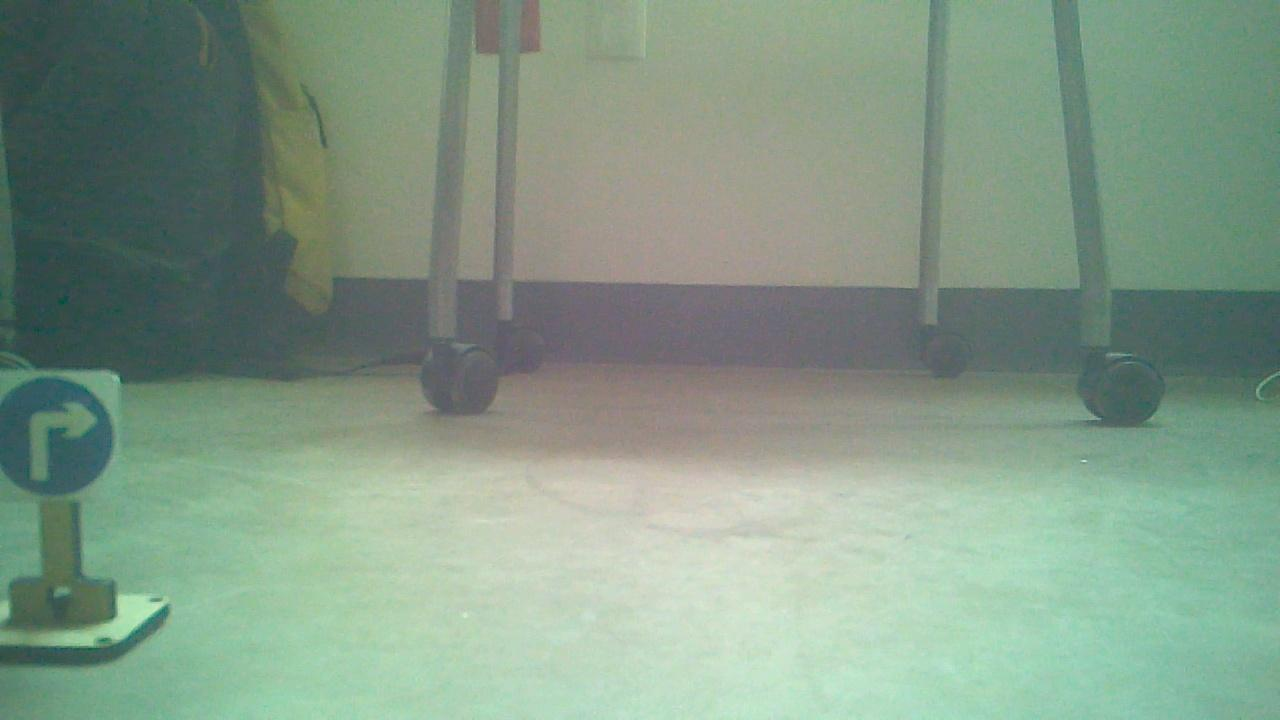turn: (0, 374, 119, 497)
